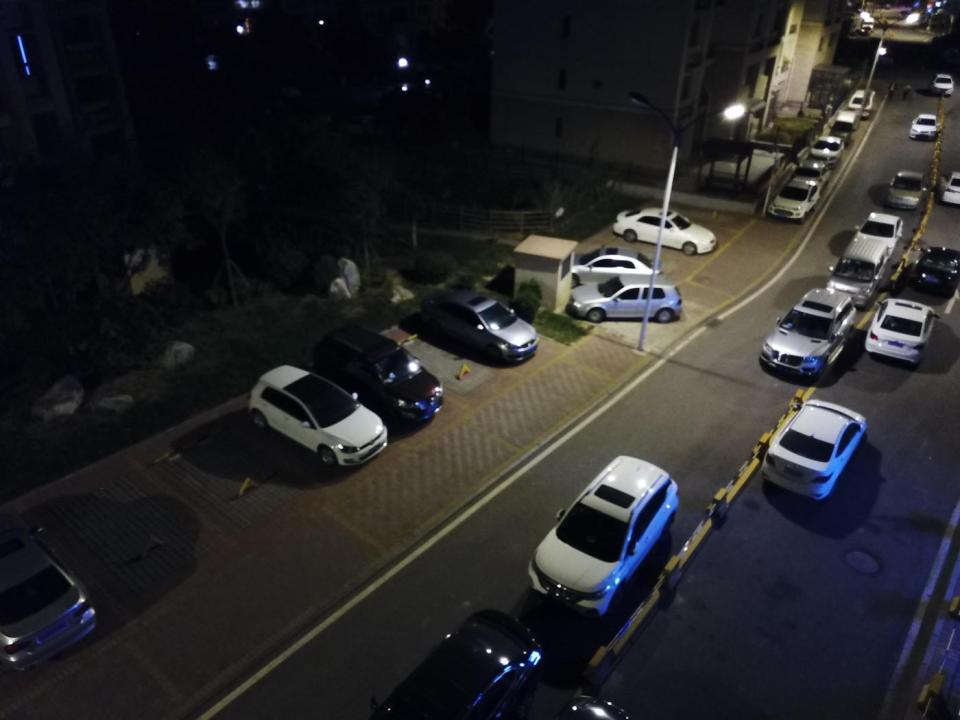car: (525, 456, 678, 618), (364, 607, 543, 720), (0, 501, 98, 672), (246, 362, 390, 467), (757, 395, 868, 502), (323, 327, 446, 422), (419, 286, 542, 363), (755, 285, 856, 375), (611, 204, 718, 256), (863, 296, 941, 366), (567, 278, 681, 323), (560, 243, 665, 289), (909, 244, 959, 299), (852, 211, 904, 261), (766, 178, 822, 224), (885, 170, 927, 210), (809, 133, 846, 166), (790, 158, 832, 184), (846, 87, 878, 121), (908, 113, 942, 141), (929, 72, 956, 97), (859, 12, 875, 34)
van: (822, 236, 892, 304), (824, 108, 861, 144)
